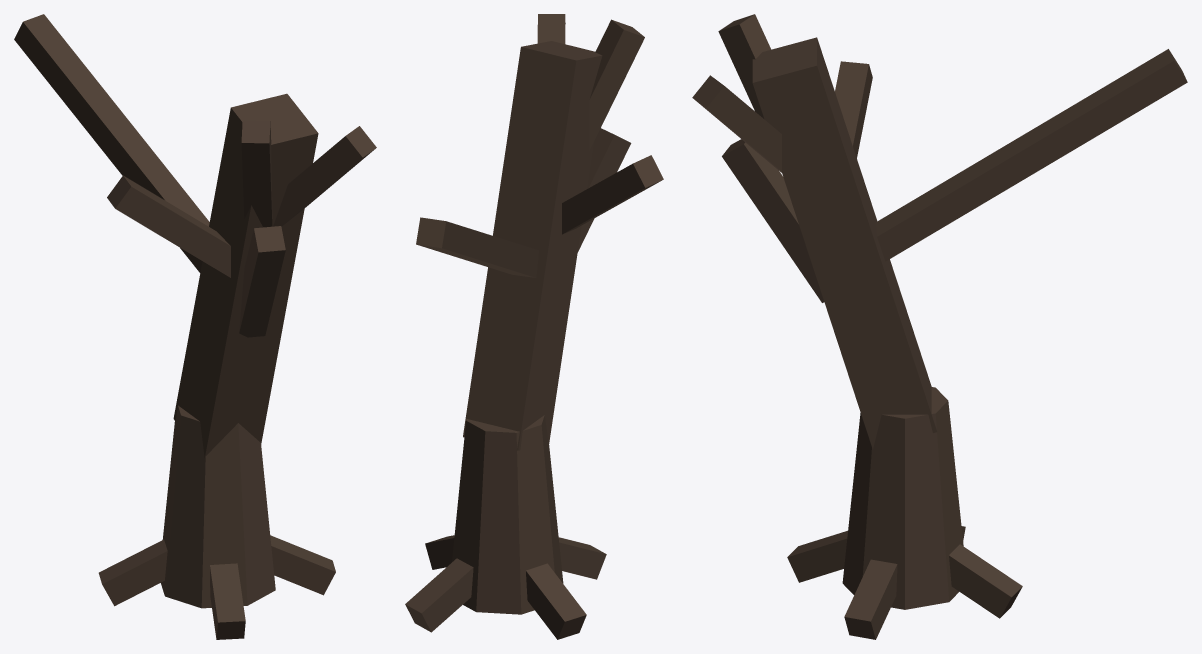
Rendered from tree_willow_s_trunk.fbx.
3 renders of one model, left to right at view 1: azimuth 30°, elevation 25°; view 2: azimuth 150°, elevation 25°; view 3: azimuth 270°, elevation 25°, orthographic. The views are drawn at different scales.
Parts seen in each view (by area): view 1: tree_willow_s_trunk; view 2: tree_willow_s_trunk; view 3: tree_willow_s_trunk.
Part boxes in pixels (x1,y1,x2,y2): tree_willow_s_trunk: (14,14,376,639); tree_willow_s_trunk: (405,14,663,639); tree_willow_s_trunk: (692,14,1187,639).
Size of the model in its own units: 343 by 767 by 618.
